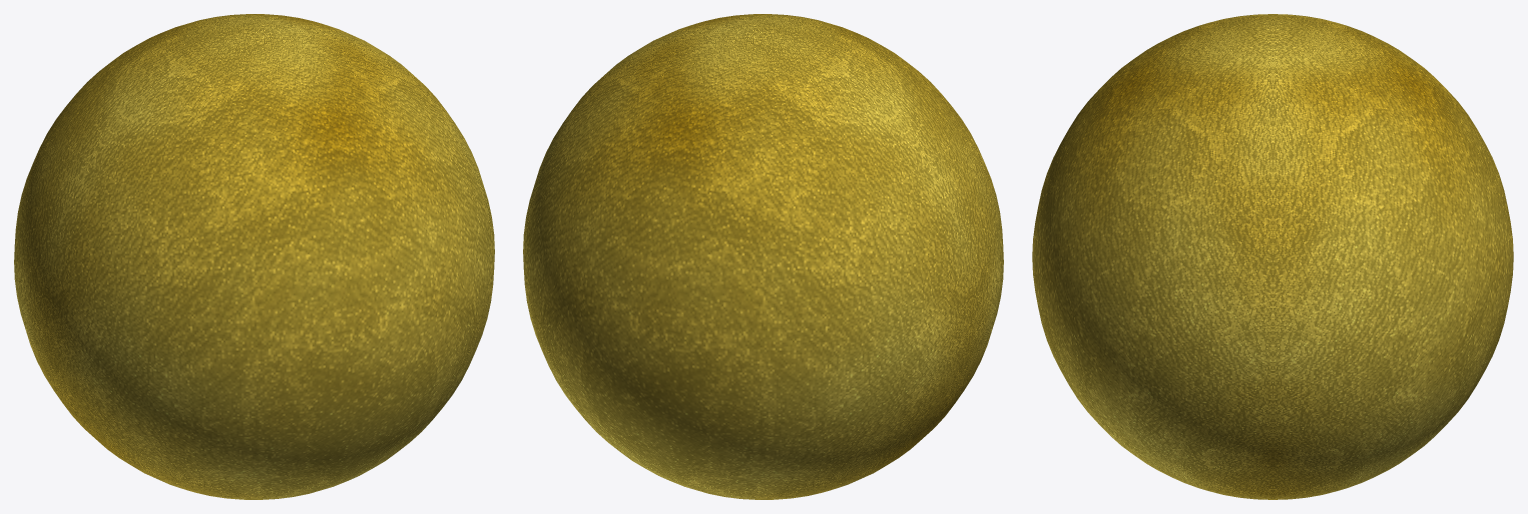
The model's file is ballFBX.fbx.
The picture shows the model from 3 angles, left to right: view 1: azimuth 30°, elevation 25°; view 2: azimuth 150°, elevation 25°; view 3: azimuth 270°, elevation 25°; orthographic projection.
Visible parts, largest first — view 1: polySurface1; view 2: polySurface1; view 3: polySurface1.
Boxes of the visible parts, left/top/right/bottom form: polySurface1: left=14, top=14, right=494, bottom=499; polySurface1: left=523, top=14, right=1003, bottom=499; polySurface1: left=1032, top=14, right=1513, bottom=499.
Size of the model in its own units: 29.36 by 29.76 by 29.36.
1 material, 1 textured.
